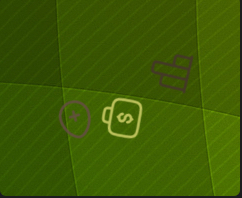bag: (98, 93, 149, 145)
shield: (53, 99, 95, 142)
threebuilding: (149, 50, 197, 98)
